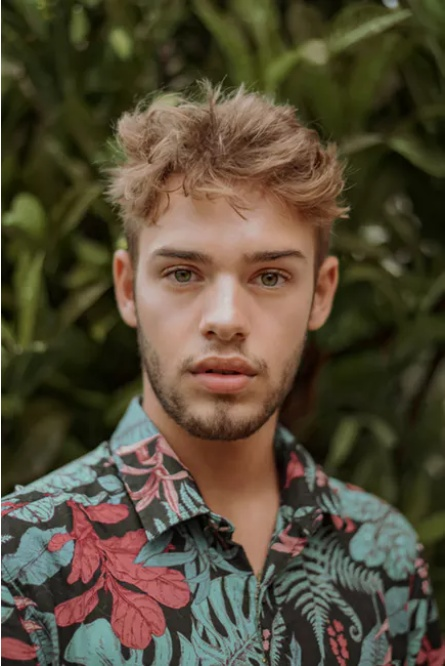face: (136, 179, 311, 441)
